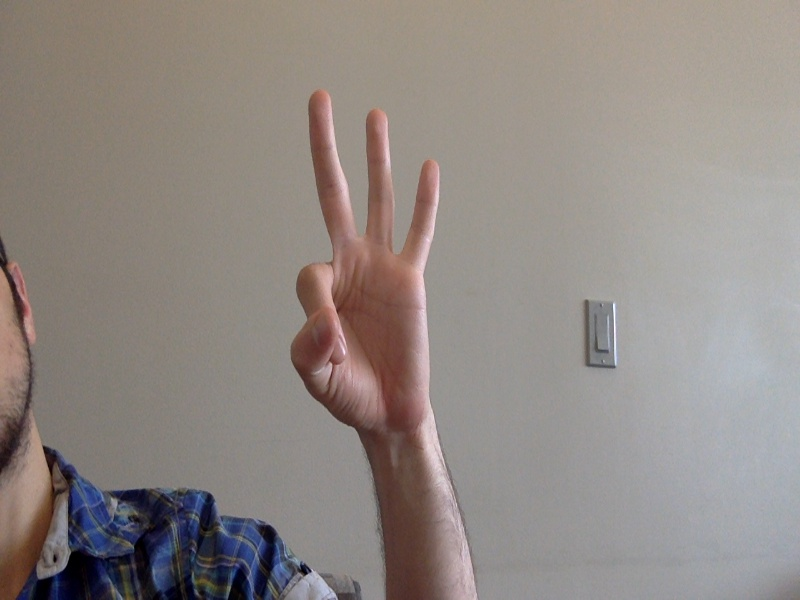3-hand: (294, 88, 444, 450)
